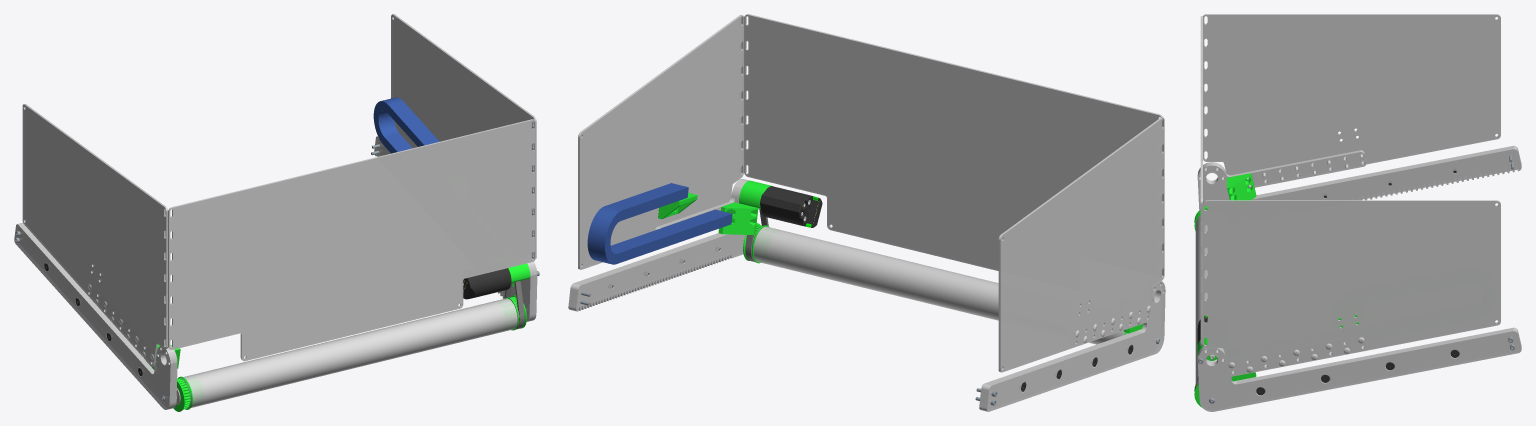
3 renders of one model, left to right at view 1: azimuth 30°, elevation 25°; view 2: azimuth 150°, elevation 25°; view 3: azimuth 270°, elevation 25°, orthographic. The views are drawn at different scales.
Visible parts, largest first — view 1: Extendo Hopper - Front, Extendo Hopper - Side (×2), Part 5, Rack - No Toothed-Mirrored, Part 17, Rack - Toothed (×2), Kraken X44 Brushless Motor; view 2: Extendo Hopper - Front, Extendo Hopper - Side (×2), Part 5, Rack - No Toothed-Mirrored, Rack - Toothed (×2), Part 17, Kraken X44 Brushless Motor, Part 18, Rack - No Toothed, Part 7; view 3: Extendo Hopper - Side (×2), Rack - No Toothed, Rack - Toothed (×2), Rack - No Toothed-Mirrored, Extendo Hopper - Front, Part 5, Part 18-Mirrored.
Part boxes in pixels (x1,y1,x2,y2): Extendo Hopper - Front: (168, 119, 535, 361); Extendo Hopper - Side (×2): (22, 14, 536, 366); Part 5: (178, 298, 519, 409); Rack - No Toothed-Mirrored: (14, 223, 173, 409); Part 17: (373, 97, 439, 153); Rack - Toothed (×2): (21, 136, 533, 408); Kraken X44 Brushless Motor: (463, 268, 511, 299); Extendo Hopper - Front: (744, 14, 1163, 270); Extendo Hopper - Side (×2): (578, 15, 1164, 372); Part 5: (751, 226, 1127, 344); Rack - No Toothed-Mirrored: (983, 281, 1165, 411); Rack - Toothed (×2): (572, 179, 1156, 410); Part 17: (587, 183, 732, 264); Kraken X44 Brushless Motor: (760, 186, 822, 227); Part 18: (718, 202, 758, 234); Rack - No Toothed: (568, 179, 745, 310); Part 7: (739, 180, 772, 208); Extendo Hopper - Side (×2): (1203, 14, 1500, 376); Rack - No Toothed: (1197, 329, 1521, 411); Rack - Toothed (×2): (1197, 147, 1521, 382); Rack - No Toothed-Mirrored: (1197, 145, 1521, 200); Extendo Hopper - Front: (1200, 16, 1202, 345); Part 5: (1195, 215, 1217, 383); Part 18-Mirrored: (1227, 173, 1256, 200).
Bounding box in the file's own units: 0.6828 × 0.3664 × 0.5019.
